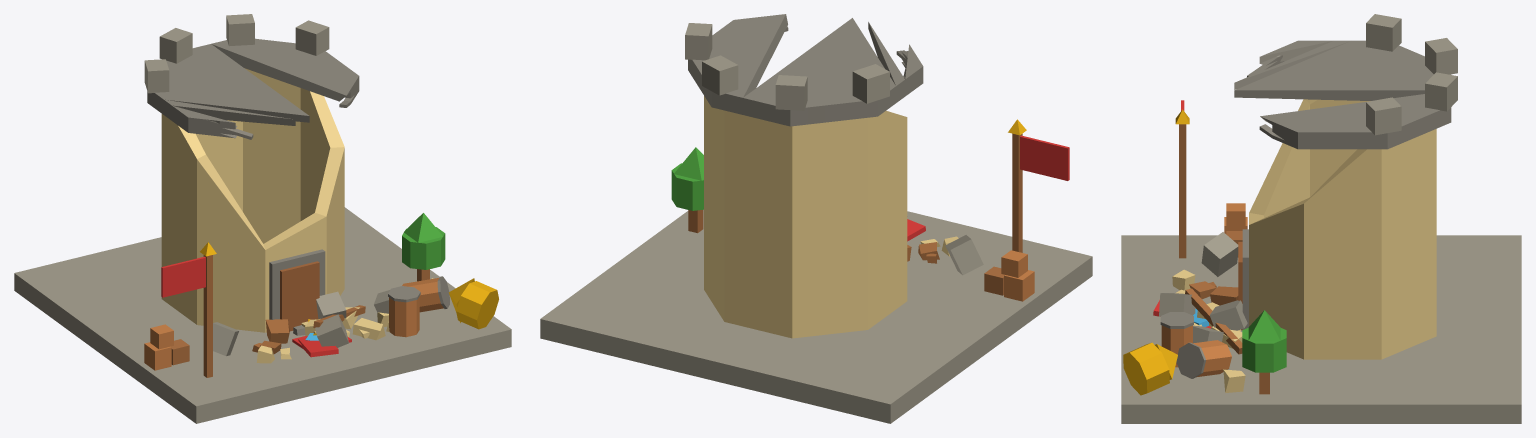
Rendered from defense_tower_t2_v2_dmg1.glb.
3 views of the same model, side by side, from view 1: azimuth 30°, elevation 25°; view 2: azimuth 150°, elevation 25°; view 3: azimuth 270°, elevation 25° (orthographic). The views are drawn at different scales.
Parts seen in each view (by area): view 1: defense_tower_t2_v2_dmg1; view 2: defense_tower_t2_v2_dmg1; view 3: defense_tower_t2_v2_dmg1.
Boxes of the visible parts, bbox=[...] form: defense_tower_t2_v2_dmg1: bbox=[14, 14, 511, 423]; defense_tower_t2_v2_dmg1: bbox=[540, 14, 1092, 423]; defense_tower_t2_v2_dmg1: bbox=[1121, 14, 1521, 423].
Bounding box in the file's own units: 0.765 × 0.572 × 0.75.
1 material, 1 textured.
